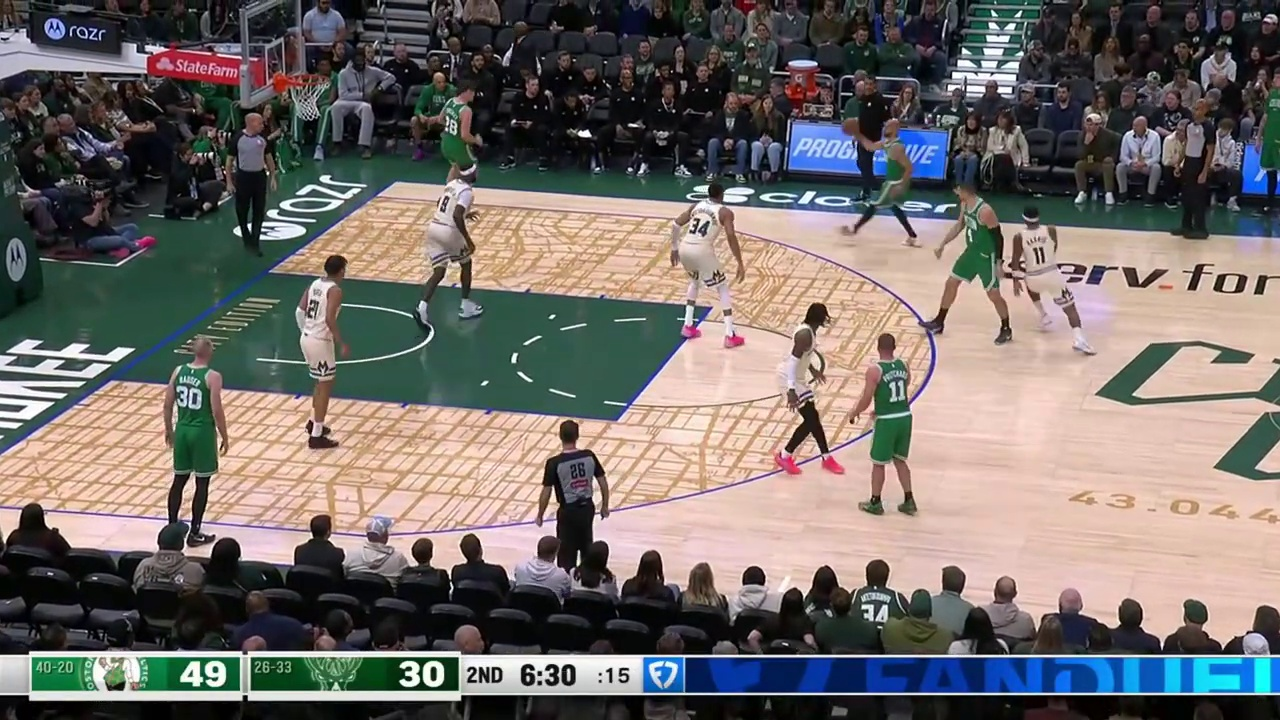11_PaytonPrichard: (857, 328, 936, 522)
21_OusmaneDieng: (293, 255, 363, 409)
28_HugoGonzalez: (427, 74, 500, 174)
30_SamHauser: (165, 320, 236, 526)
34_GiannisAntetokounmpo: (664, 171, 758, 353)
4_NikolaVucecic: (932, 177, 1001, 338)
7_KevinPorter: (781, 288, 843, 484)
9_BobbyPortis: (403, 174, 504, 330)
9_DerrickWhite: (1009, 198, 1103, 363), (842, 107, 915, 238)
